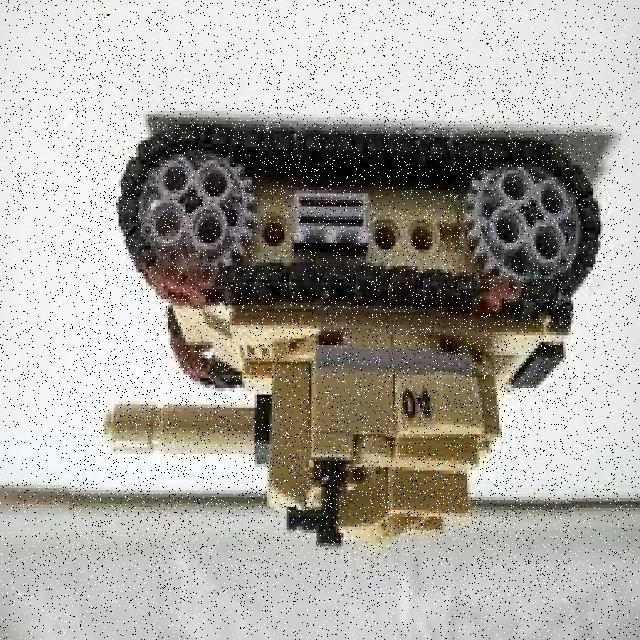MIL_MBT: (69, 53, 571, 602)
